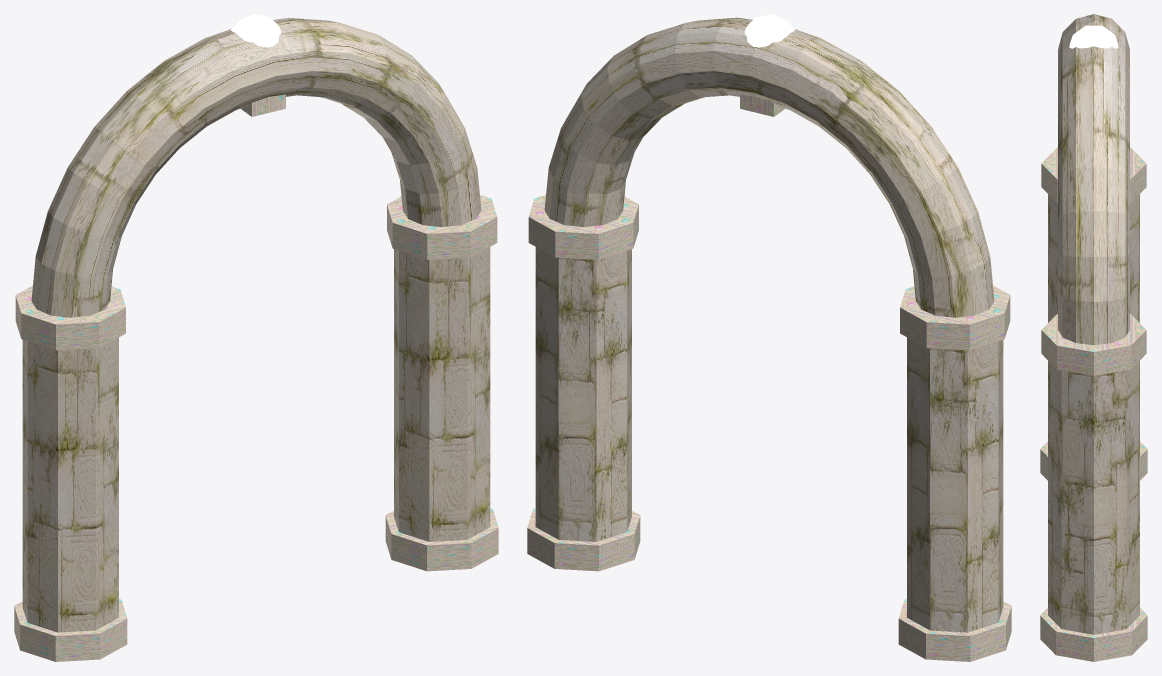
The model's file is struct_gate.glb.
3 views of the same model, side by side, from view 1: azimuth 30°, elevation 25°; view 2: azimuth 150°, elevation 25°; view 3: azimuth 270°, elevation 25° (orthographic). The views are drawn at different scales.
Visible parts, largest first — view 1: Cylinder, Cylinder.001, Icosphere; view 2: Cylinder, Cylinder.001, Icosphere; view 3: Cylinder, Cylinder.001, Icosphere.
Part boxes in pixels (box(x1,y1,x2,y2)): Cylinder: box(22, 17, 490, 632); Cylinder.001: box(14, 94, 498, 661); Icosphere: box(231, 14, 281, 47); Cylinder: box(535, 17, 1003, 632); Cylinder.001: box(527, 94, 1011, 661); Icosphere: box(744, 14, 794, 47); Cylinder: box(1048, 14, 1139, 634); Cylinder.001: box(1040, 147, 1147, 661); Icosphere: box(1069, 25, 1118, 48).
Bounding box in the file's own units: 7.64 × 8.9 × 1.64.
Materials: 4 (2 with a texture image).
